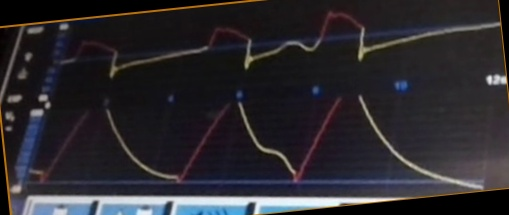Ineffective_effort Flow: (58, 10, 500, 79)
Ineffective_effort Volume: (28, 96, 481, 189)
